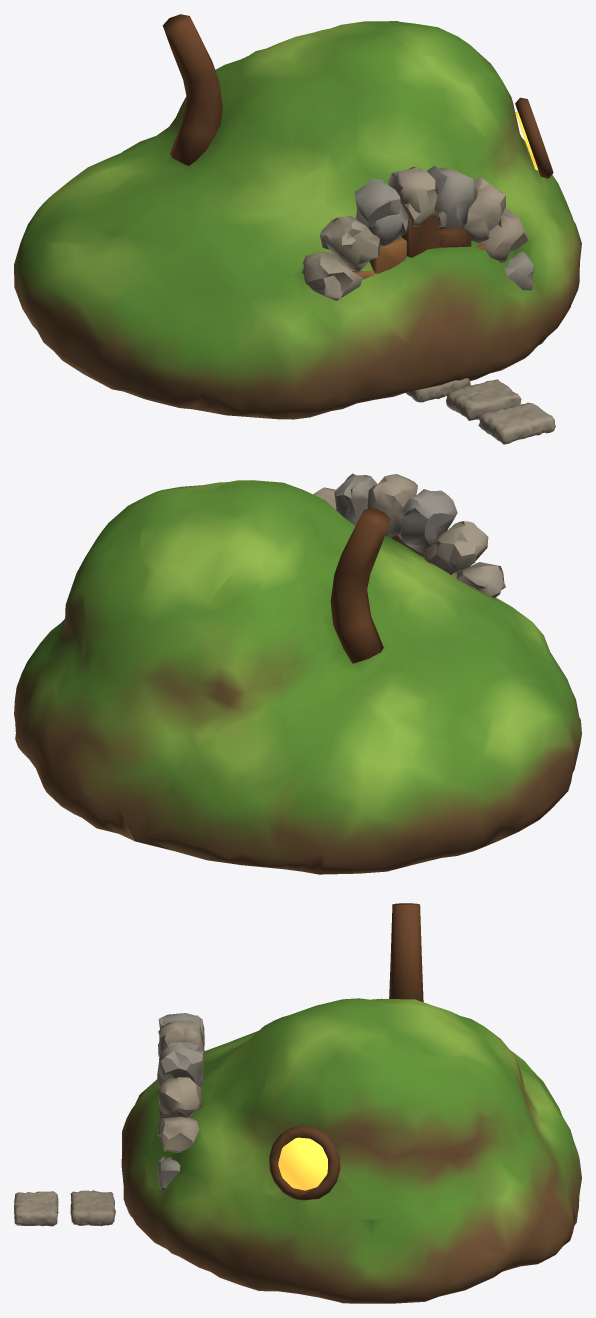
The model's file is glade_warren_burrow.glb.
3 renders of one model, top to bottom at view 1: azimuth 30°, elevation 25°; view 2: azimuth 150°, elevation 25°; view 3: azimuth 270°, elevation 25°, orthographic. The views are drawn at different scales.
Visible parts, largest first — view 1: glade_warren_burrow; view 2: glade_warren_burrow; view 3: glade_warren_burrow.
Part boxes in pixels (left/top/right/bottom): glade_warren_burrow: left=14, top=14, right=581, bottom=444; glade_warren_burrow: left=14, top=473, right=581, bottom=874; glade_warren_burrow: left=14, top=903, right=581, bottom=1303.
Bounding box in the file's own units: 7.47 × 4.2 × 8.31.
